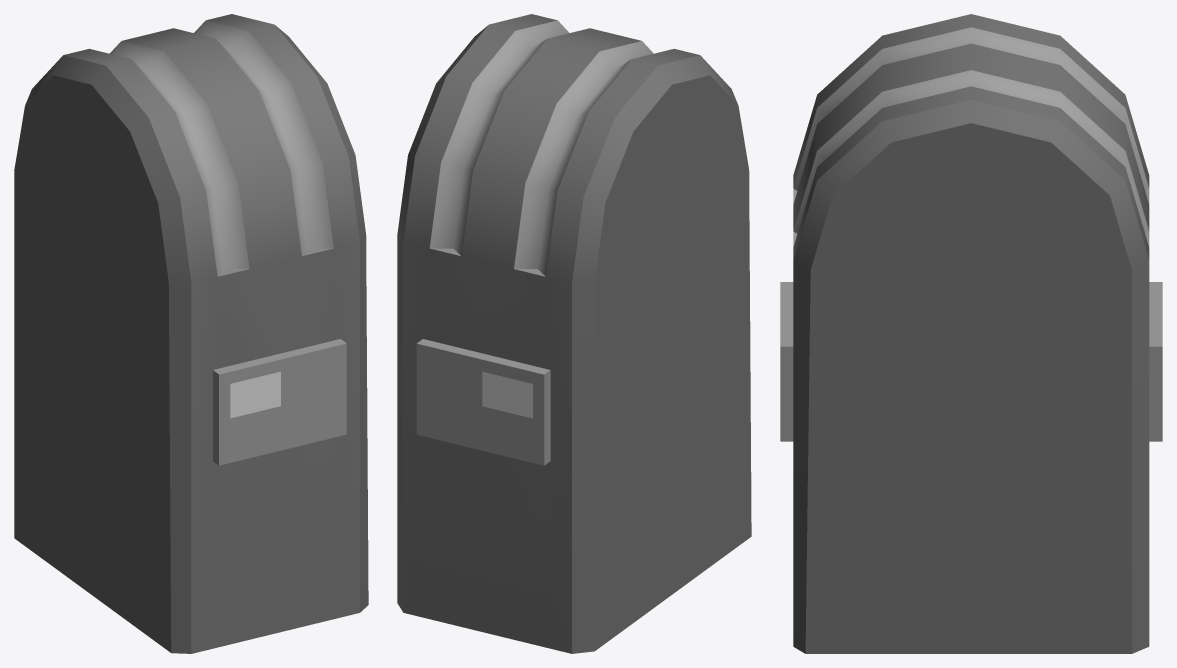
File: pipe_010.fbx
3 views of the same model, side by side, from view 1: azimuth 30°, elevation 25°; view 2: azimuth 150°, elevation 25°; view 3: azimuth 270°, elevation 25° (orthographic). The views are drawn at different scales.
Parts seen in each view (by area): view 1: pipe_010; view 2: pipe_010; view 3: pipe_010.
Boxes of the visible parts, box(x1,y1,x2,y2) form: pipe_010: box(14, 14, 368, 653); pipe_010: box(397, 14, 751, 653); pipe_010: box(780, 14, 1162, 653).
Size of the model in its own units: 164 by 264 by 416.
